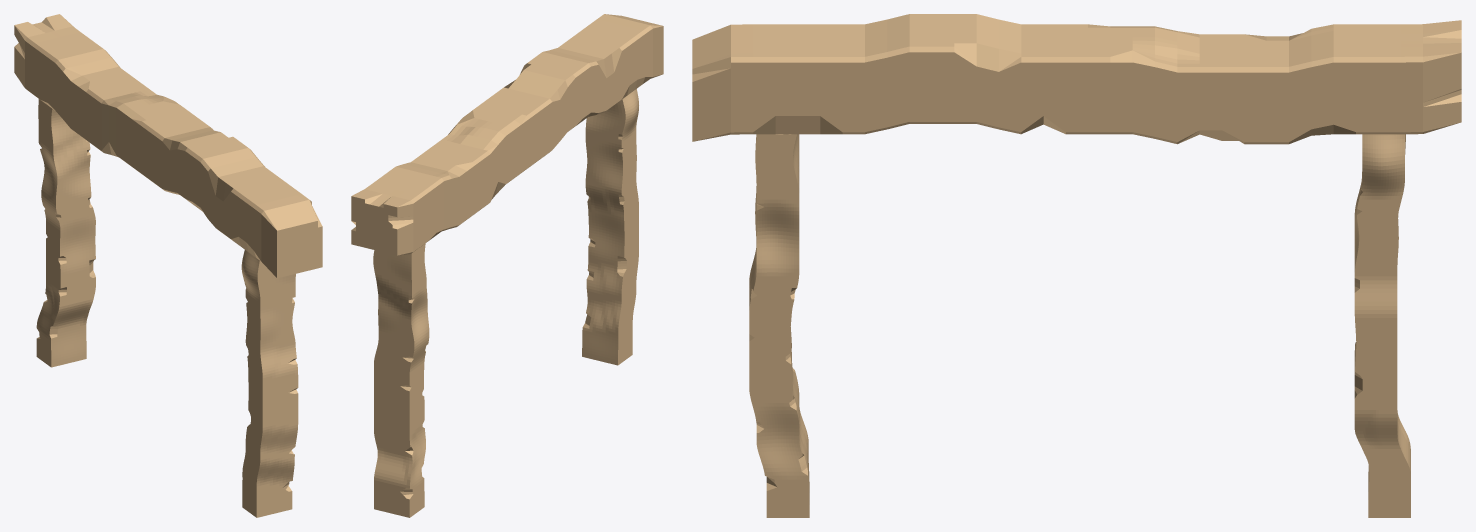
The model's file is DesertGate.fbx.
3 views of the same model, side by side, from view 1: azimuth 30°, elevation 25°; view 2: azimuth 150°, elevation 25°; view 3: azimuth 270°, elevation 25° (orthographic). The views are drawn at different scales.
Parts seen in each view (by area): view 1: Cube; view 2: Cube; view 3: Cube.
Part boxes in pixels (bbox=[...]): Cube: bbox=[14, 14, 322, 517]; Cube: bbox=[351, 14, 663, 517]; Cube: bbox=[692, 14, 1461, 517].
Bounding box in the file's own units: 401 × 2454 × 3600.
